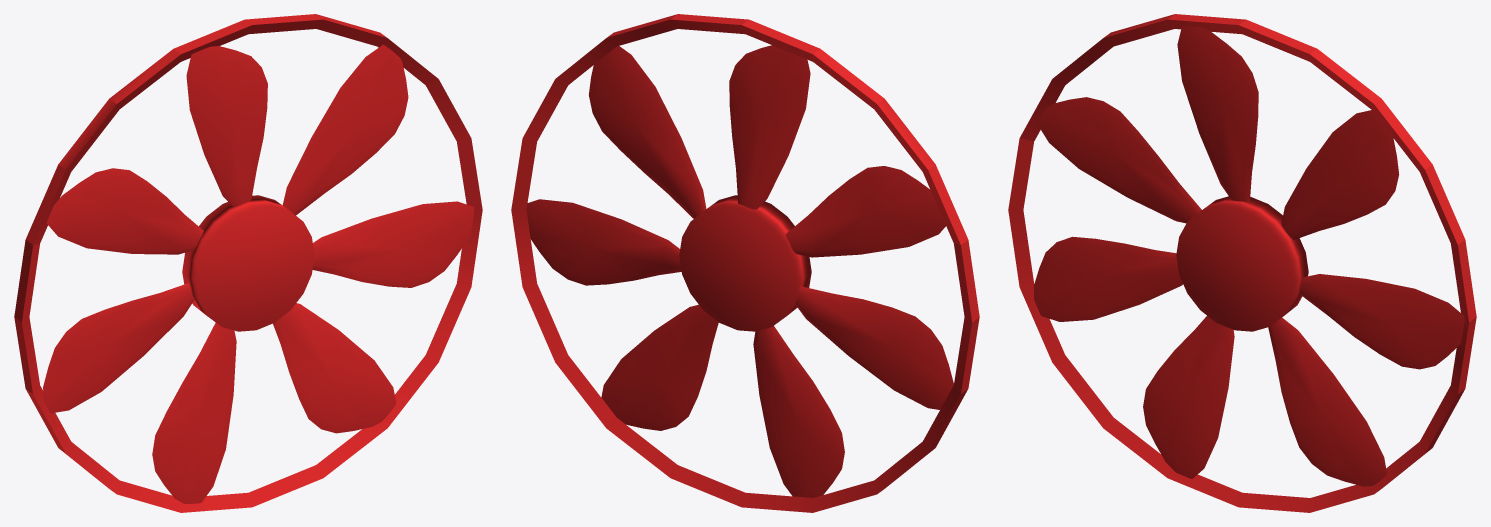
3 views of the same model, side by side, from view 1: azimuth 30°, elevation 25°; view 2: azimuth 150°, elevation 25°; view 3: azimuth 330°, elevation 25° (orthographic).
Parts seen in each view (by area): view 1: Torus; view 2: Torus; view 3: Torus.
Part boxes in pixels (left/top/right/bottom): Torus: left=14, top=14, right=482, bottom=512; Torus: left=511, top=14, right=979, bottom=512; Torus: left=1008, top=14, right=1476, bottom=512.
Bounding box in the file's own units: 0.8404 × 0.8404 × 0.0497.
